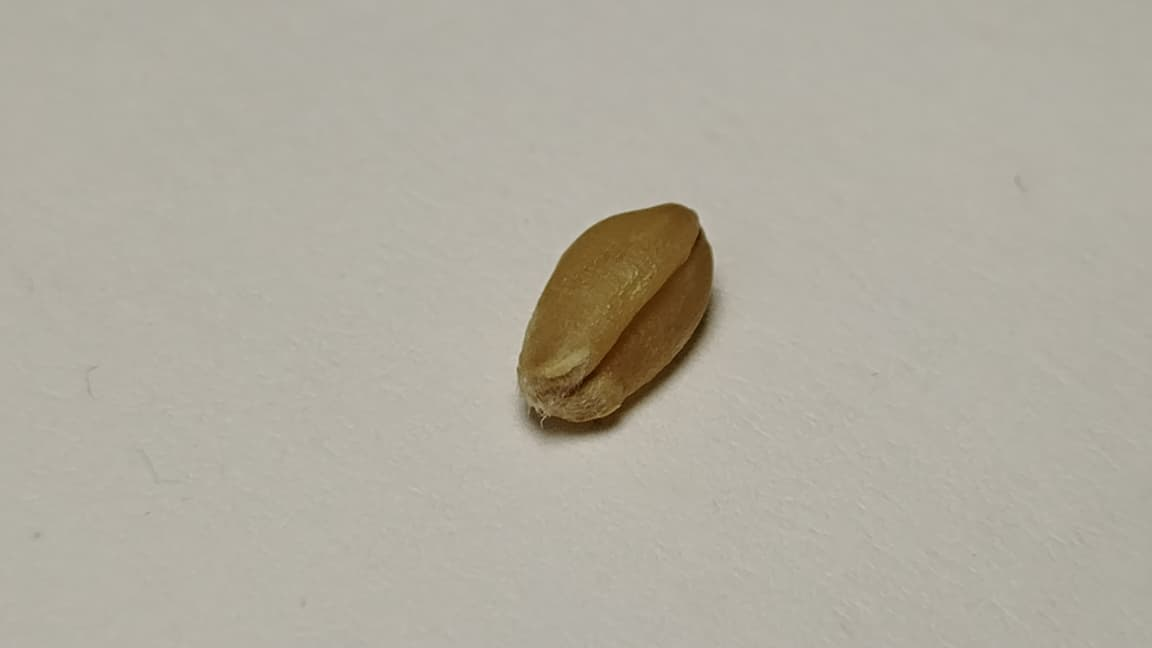healthy: (519, 203, 711, 421)
